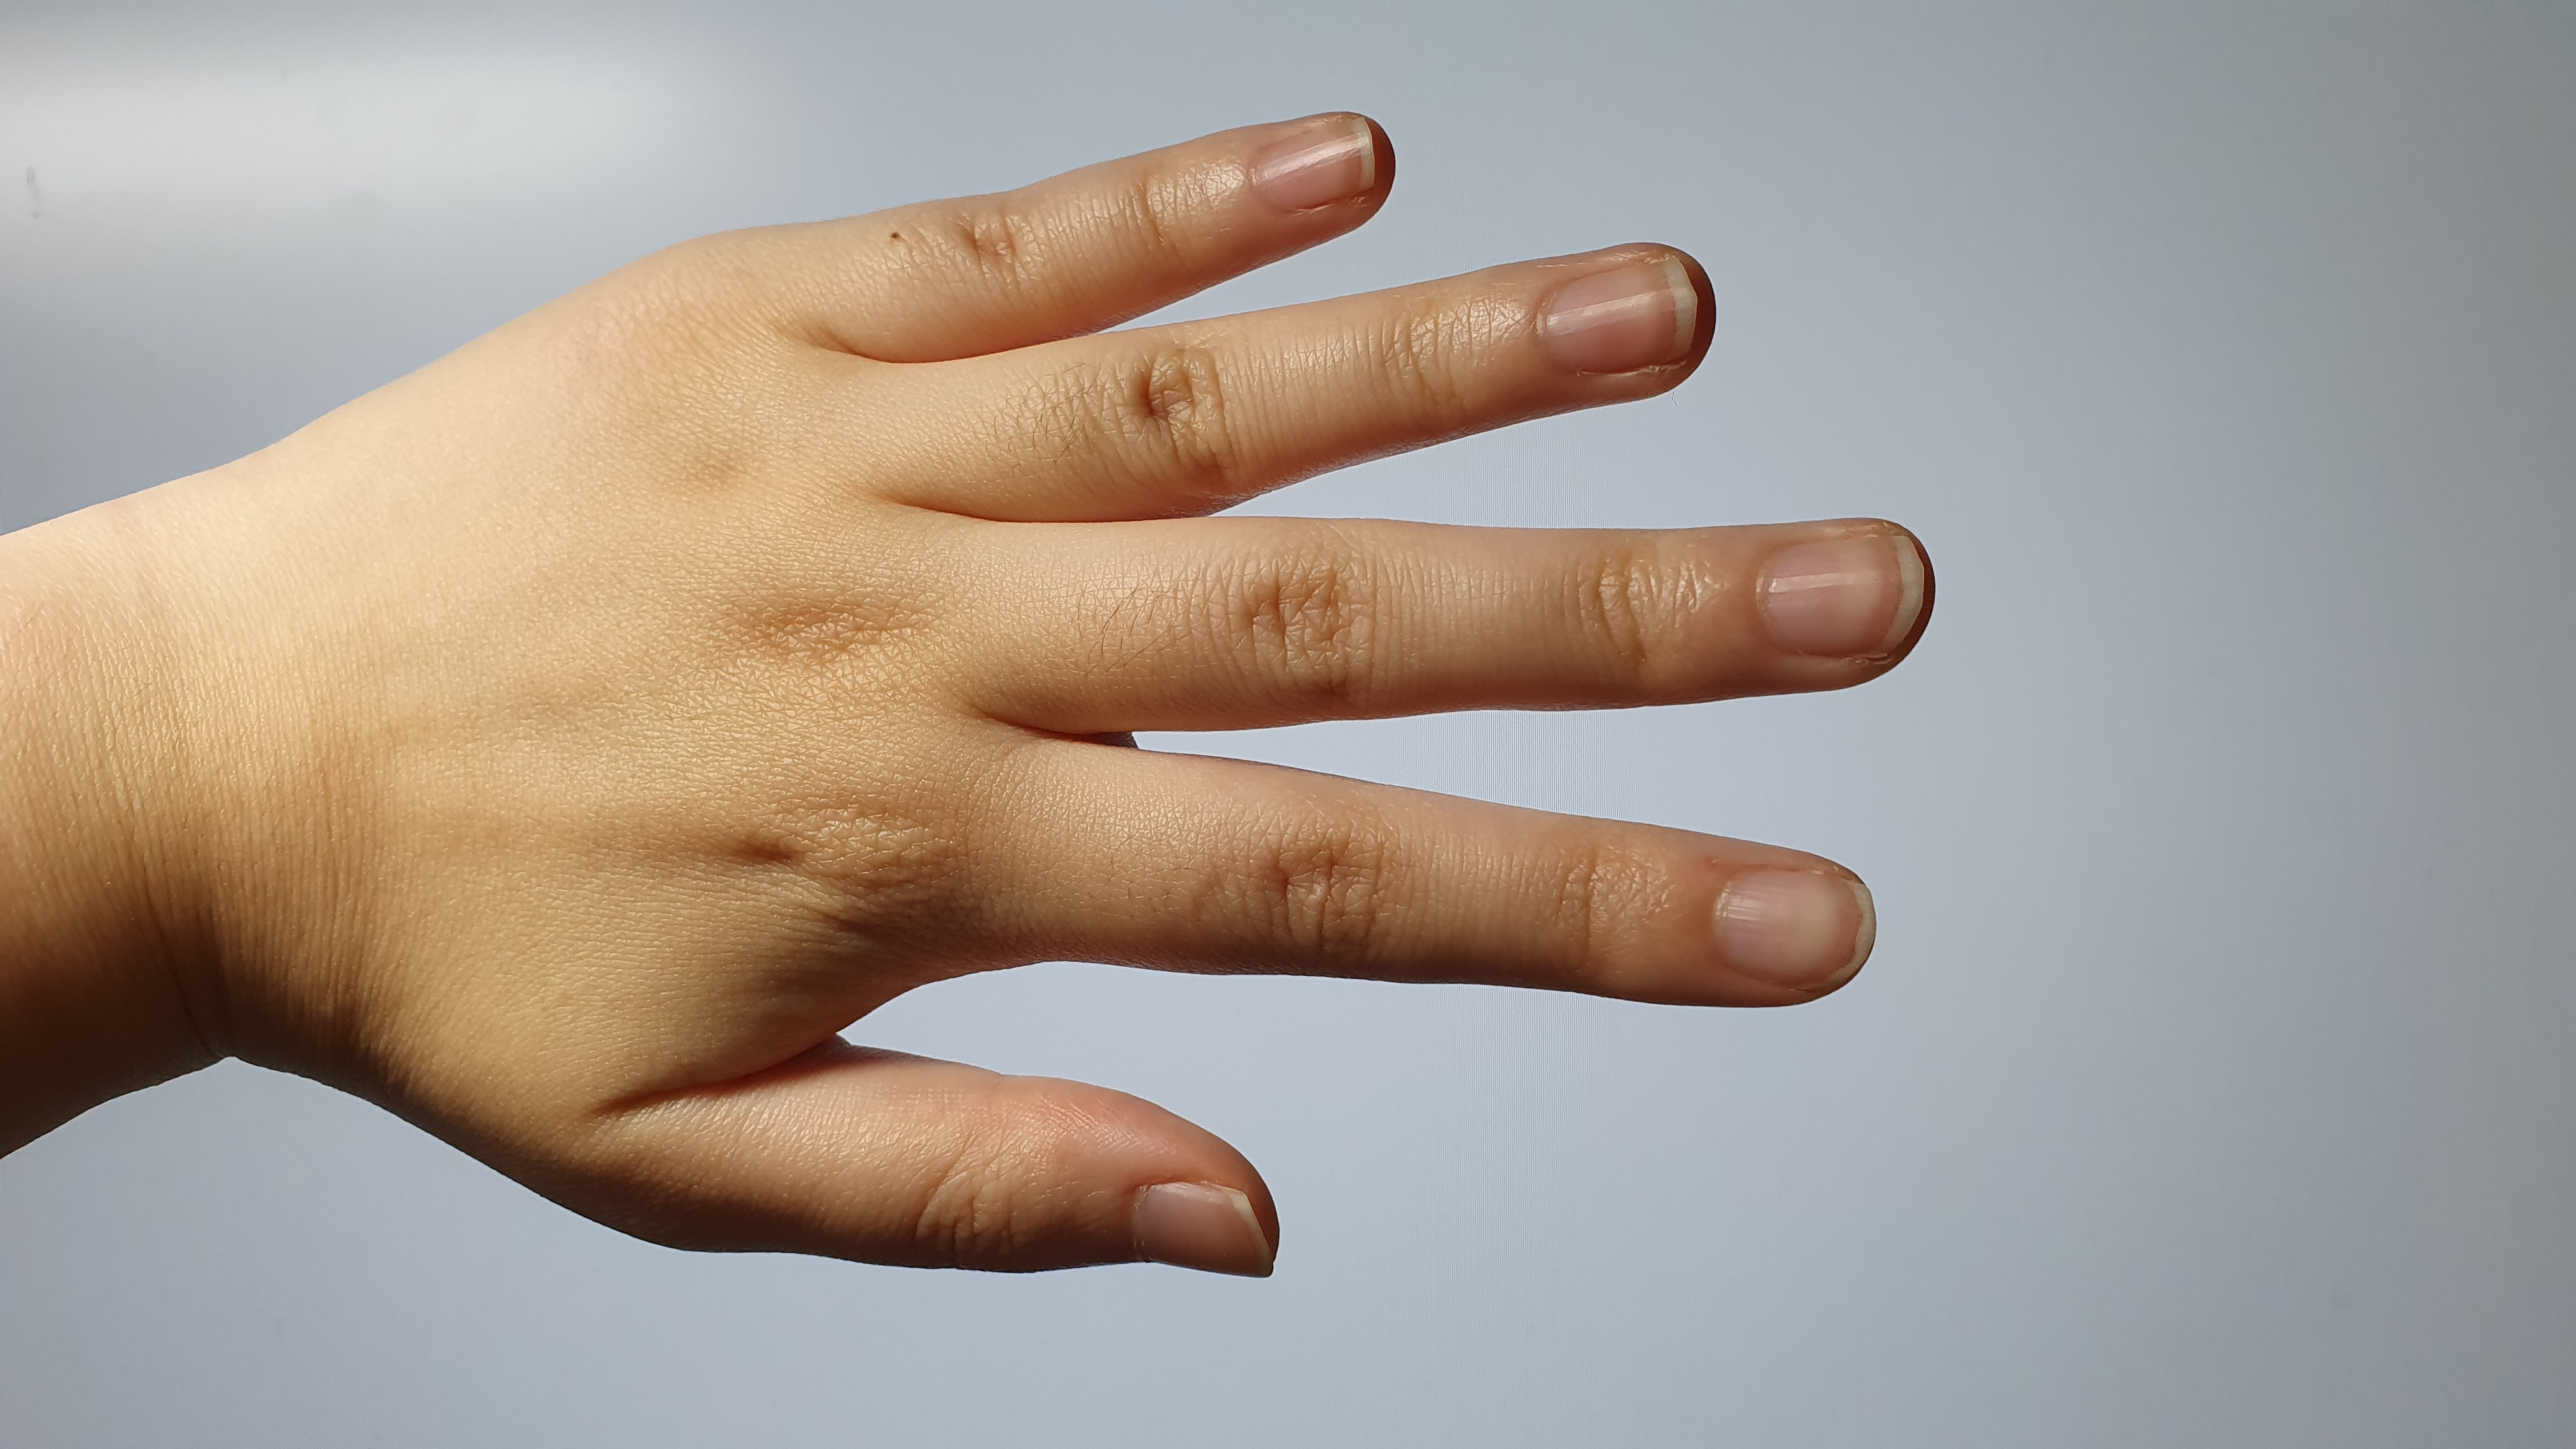backhand: (216, 306, 1030, 973)
hand: (149, 92, 1964, 1300)
index finger: (989, 757, 1879, 1008)
middle finger: (1030, 497, 1967, 745)
pinky: (793, 83, 1412, 357)
ring finger: (948, 232, 1730, 518)
thumb: (610, 1030, 1307, 1274)
